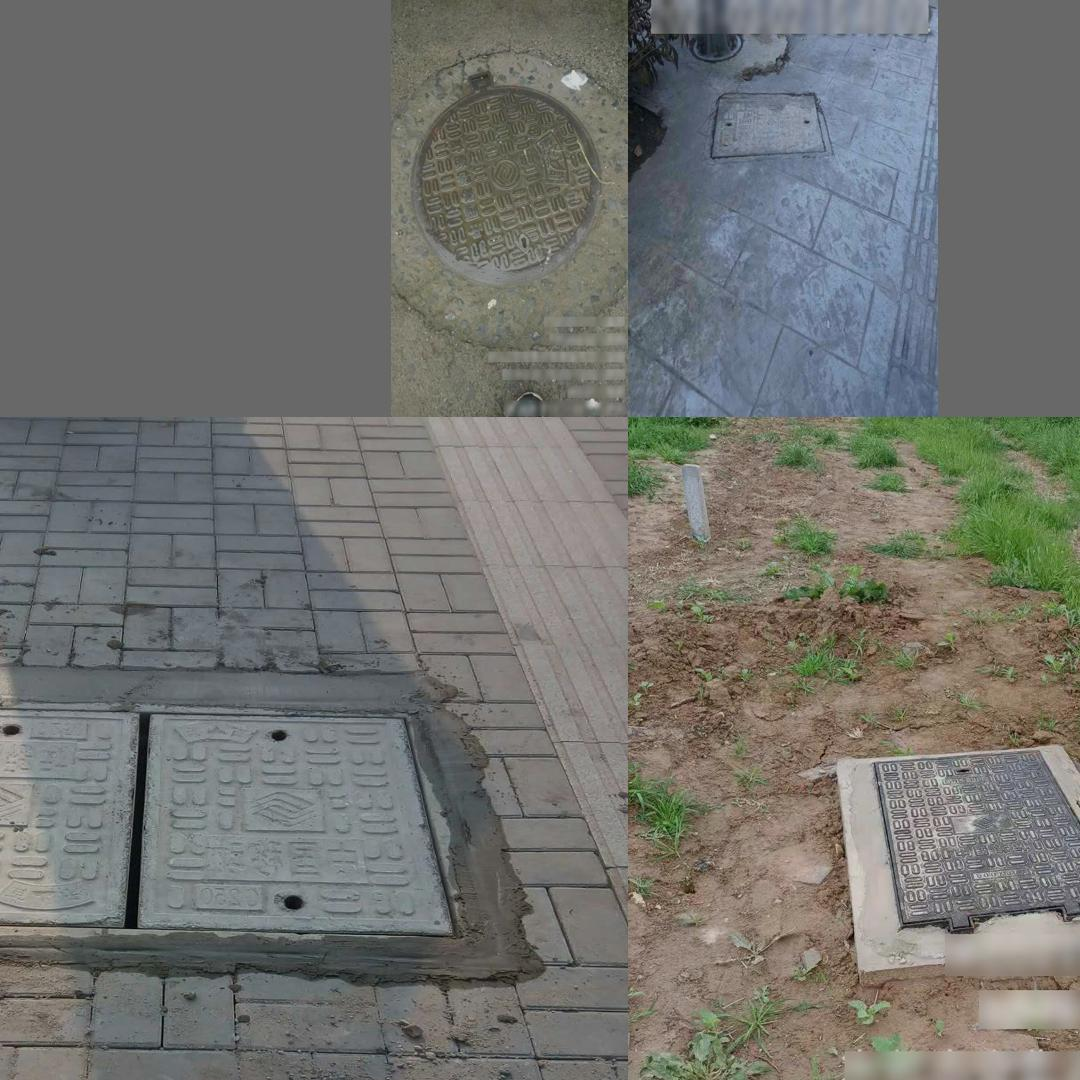good: (0, 701, 477, 939), (863, 741, 1080, 946), (409, 70, 599, 288), (705, 90, 834, 164)
